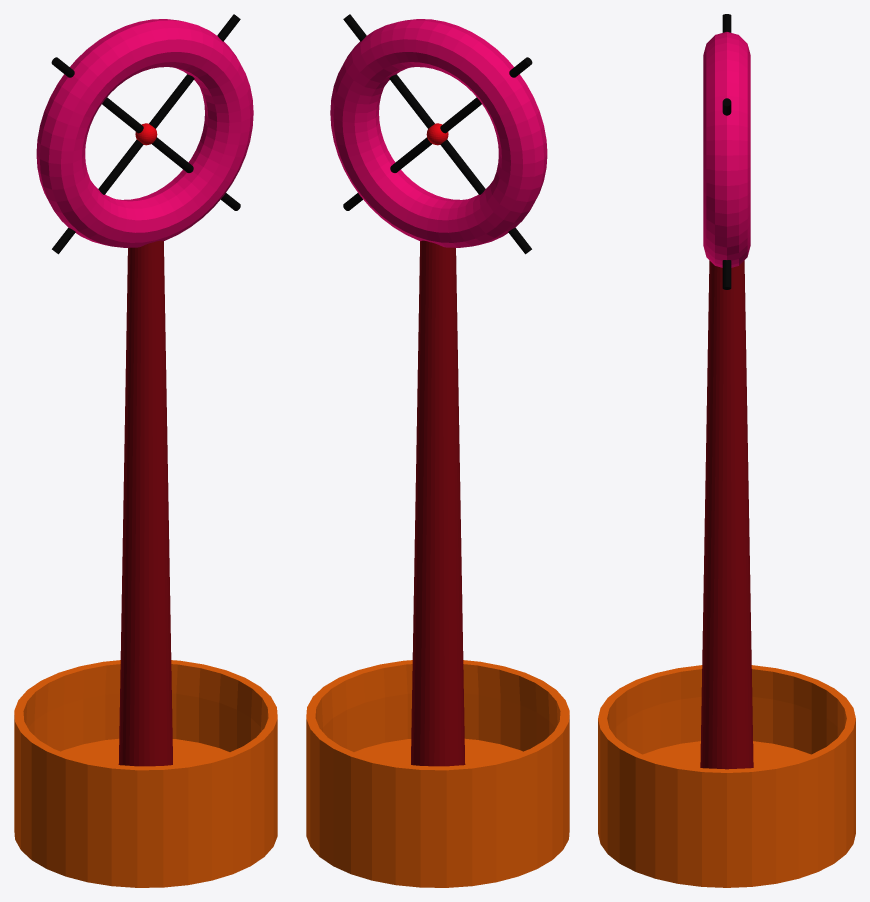
The model's file is SniperWeapon.fbx.
3 renders of one model, left to right at view 1: azimuth 30°, elevation 25°; view 2: azimuth 150°, elevation 25°; view 3: azimuth 270°, elevation 25°, orthographic. The views are drawn at different scales.
Visible parts, largest first — view 1: Cylinder.005, Torus.009, Cylinder.006, Cylinder; view 2: Cylinder.005, Torus.009, Cylinder.006, Cylinder; view 3: Cylinder.005, Torus.009.
Part boxes in pixels (x1,y1,x2,y2): Cylinder.005: (14, 240, 277, 887); Torus.009: (36, 19, 253, 247); Cylinder.006: (52, 14, 240, 254); Cylinder: (51, 57, 240, 210); Cylinder.005: (306, 240, 569, 887); Torus.009: (330, 19, 547, 247); Cylinder.006: (343, 14, 531, 254); Cylinder: (343, 57, 532, 210); Cylinder.005: (598, 260, 855, 887); Torus.009: (703, 32, 750, 267).
Size of the model in its own units: 916 by 3097 by 916.
